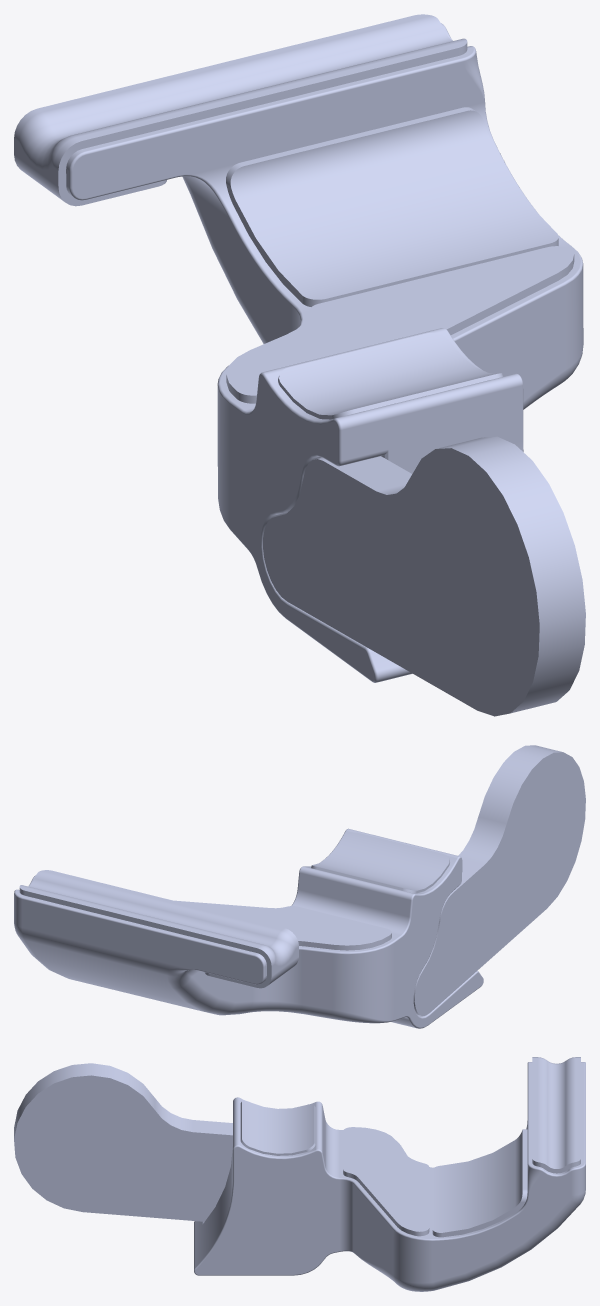
Rendered from finger_right.obj.
3 renders of one model, top to bottom at view 1: azimuth 30°, elevation 25°; view 2: azimuth 150°, elevation 25°; view 3: azimuth 270°, elevation 25°, orthographic. The views are drawn at different scales.
Visible parts, largest first — view 1: Body4; view 2: Body4; view 3: Body4.
Part boxes in pixels (<box>): Body4: <box>14,14,585,716</box>; Body4: <box>14,745,585,1028</box>; Body4: <box>14,1057,585,1291</box>.
Size of the model in its own units: 0.055 by 0.0393 by 0.1175.
